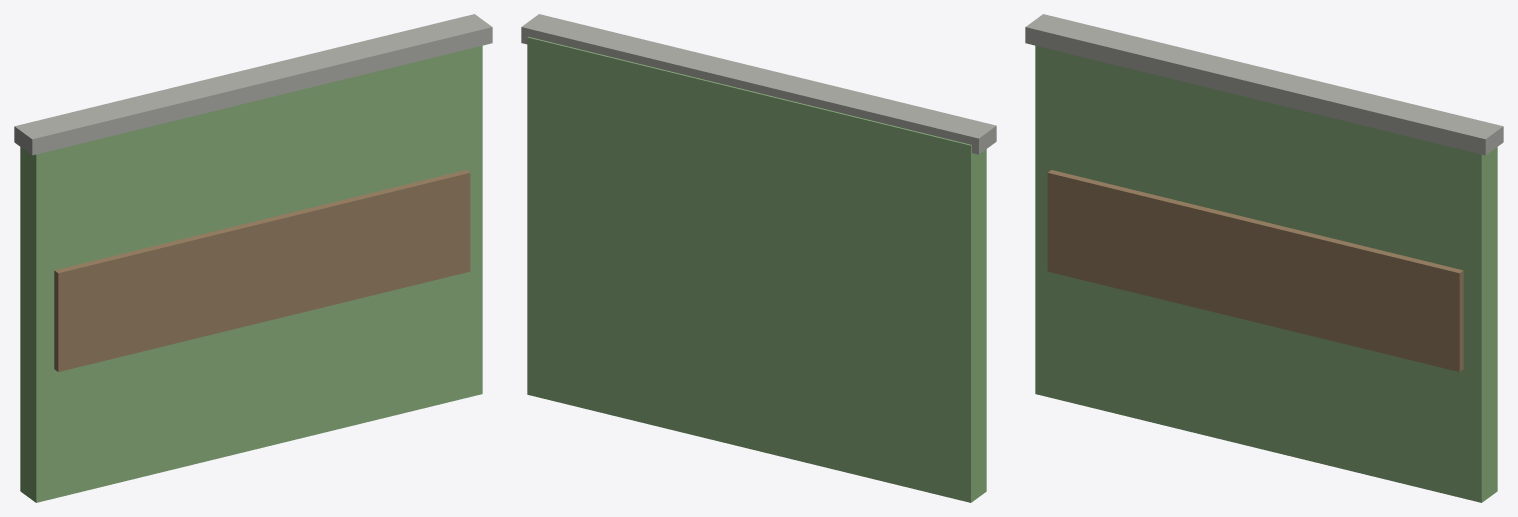
The model's file is 32_DuongDat.glb.
3 renders of one model, left to right at view 1: azimuth 30°, elevation 25°; view 2: azimuth 150°, elevation 25°; view 3: azimuth 330°, elevation 25°, orthographic.
Visible parts, largest first — view 1: base, road, edge; view 2: base, edge; view 3: base, road, edge.
Part boxes in pixels (box(x1,y1,x2,y2)): base: box(20, 45, 482, 502); road: box(54, 170, 470, 371); edge: box(14, 14, 492, 155); base: box(527, 36, 986, 502); edge: box(521, 14, 996, 154); base: box(1035, 45, 1497, 502); road: box(1047, 170, 1463, 371); edge: box(1025, 14, 1503, 155).
Size of the model in its own units: 2.68 by 2.04 by 0.21.
